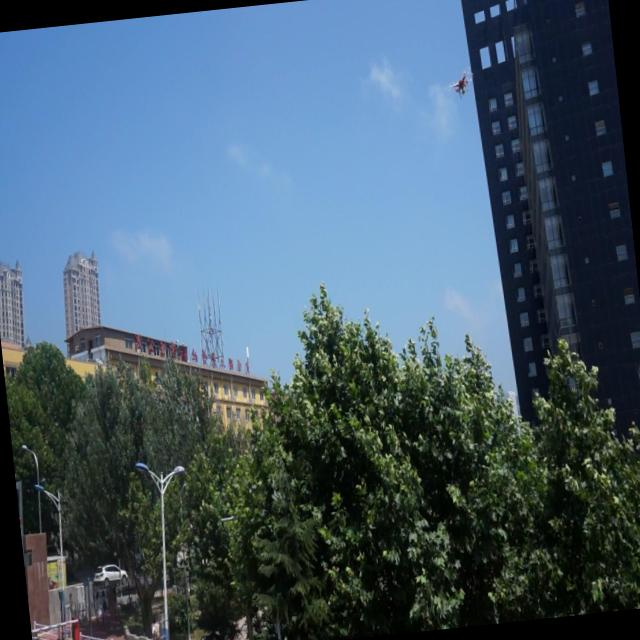drone: (443, 63, 476, 103)
